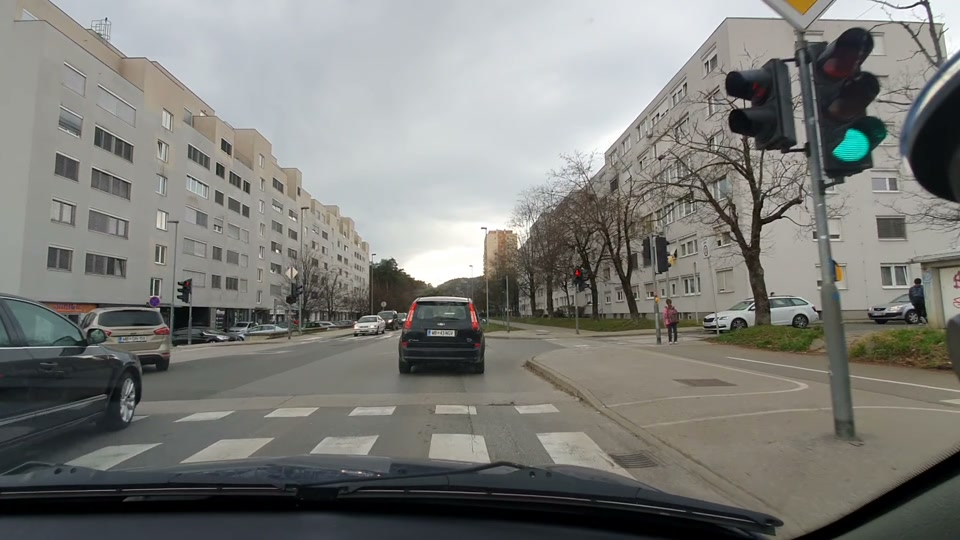vehicle_ign: (0, 300, 147, 453), (391, 293, 501, 379), (85, 304, 182, 377)
vehicle_r: (703, 298, 819, 346)
vehicle_s: (353, 316, 384, 336)
